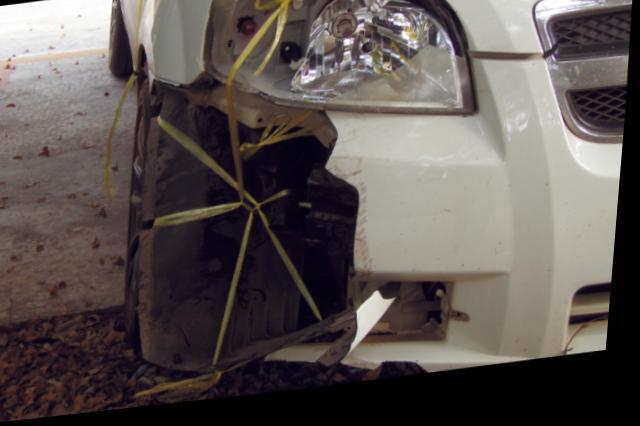lamp broken: (203, 0, 473, 126)
no part: (143, 76, 361, 374)
